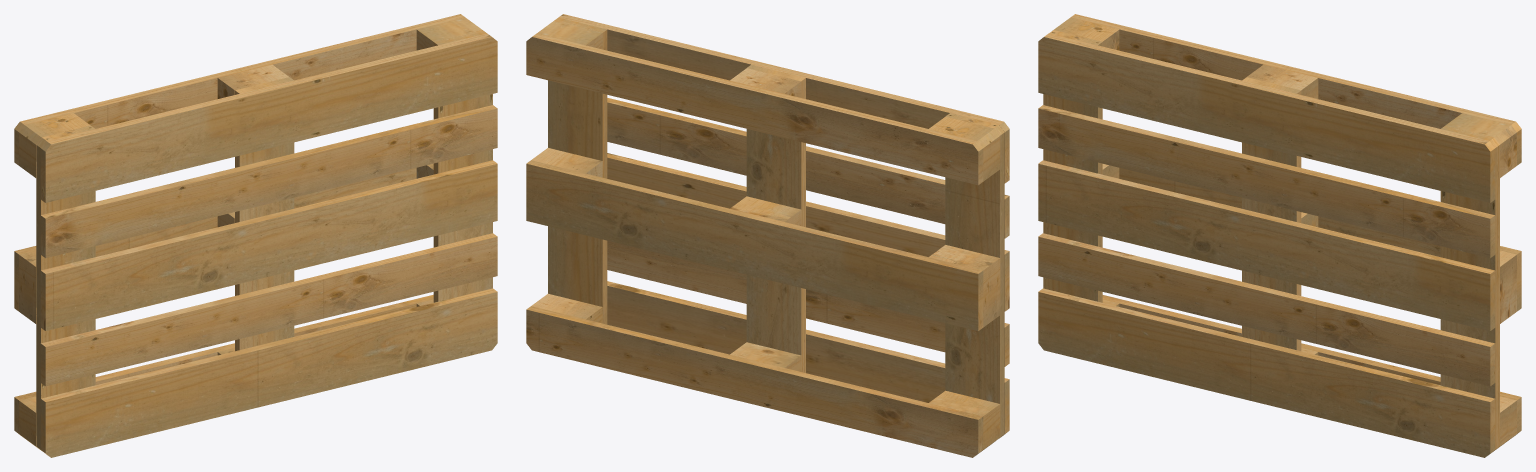
Rendered from pallet.obj.
The picture shows the model from 3 angles, left to right: view 1: azimuth 30°, elevation 25°; view 2: azimuth 150°, elevation 25°; view 3: azimuth 330°, elevation 25°; orthographic projection.
Parts seen in each view (by area): view 1: Plane.002; view 2: Plane.002; view 3: Plane.002.
Part boxes in pixels (box(x1,y1,x2,y2)): Plane.002: box(14, 14, 497, 457); Plane.002: box(526, 14, 1009, 457); Plane.002: box(1038, 14, 1521, 457).
Size of the model in its own units: 1.2 by 0.795 by 0.144.
